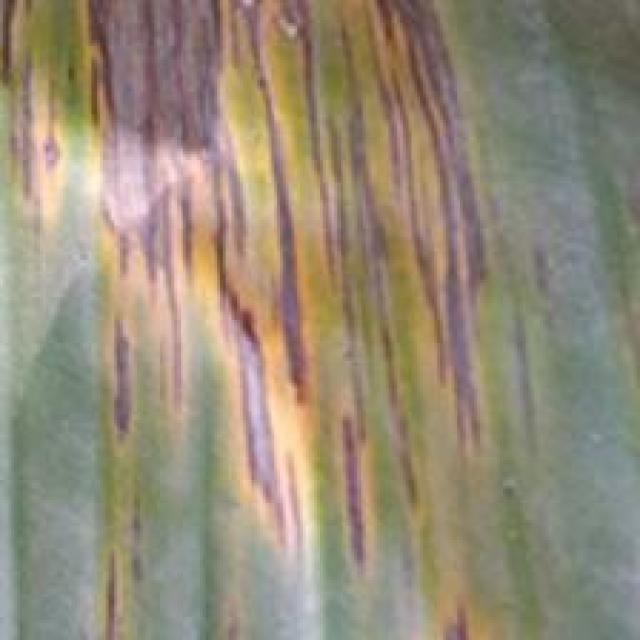Early_leaf_spot: (64, 0, 512, 640), (0, 0, 78, 236)
